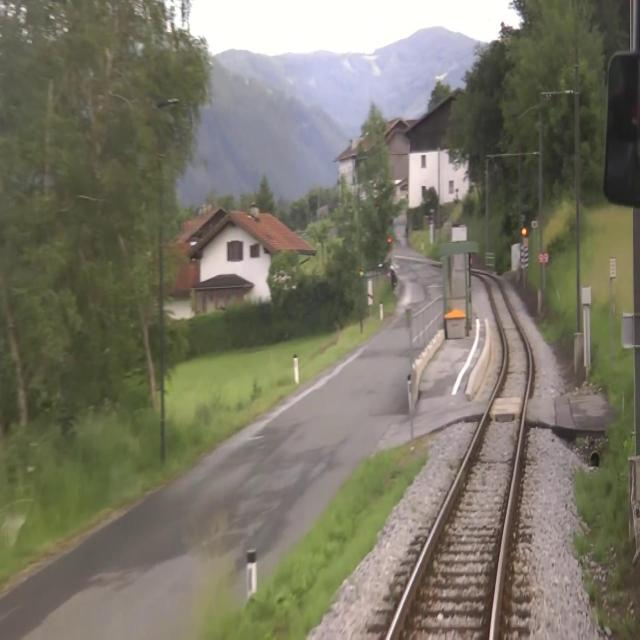rail-track: (390, 274, 528, 639)
